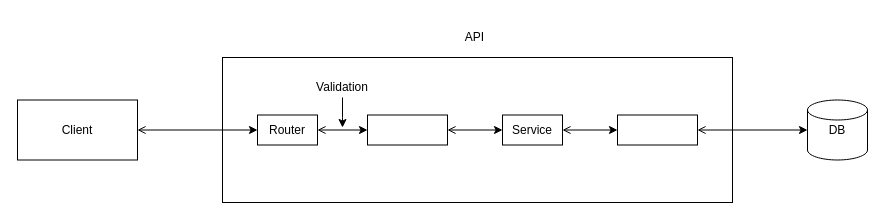
Some shapes in this 885 by 220 pixel diagram are drawn without their labels. The centre of each missing label's shape, as x and y in pixels:
"Controller" goes at point (407, 129).
"Repository" goes at point (657, 129).
